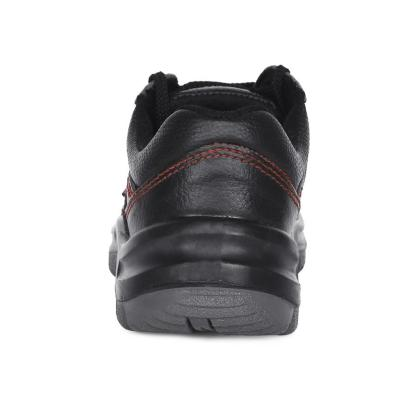bota: (105, 60, 314, 341)
